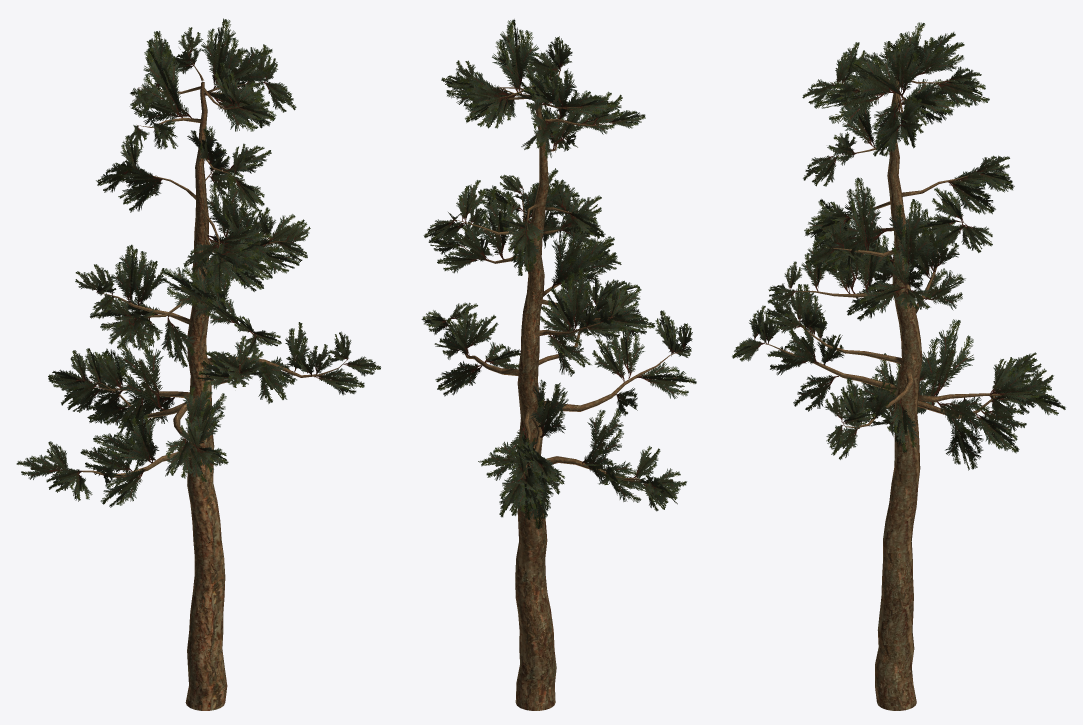
File: Tree - RedWood 2-Cg9fRmDo.glb
3 renders of one model, left to right at view 1: azimuth 30°, elevation 25°; view 2: azimuth 150°, elevation 25°; view 3: azimuth 270°, elevation 25°, orthographic.
Visible parts, largest first — view 1: RedWood 2; view 2: RedWood 2; view 3: RedWood 2.
Part boxes in pixels (x1,y1,x2,y2): RedWood 2: (16,18,380,710); RedWood 2: (421,19,696,710); RedWood 2: (732,22,1065,710).
Size of the model in its own units: 18.43 by 37.49 by 16.88.
Materials: 2 (2 with a texture image).
